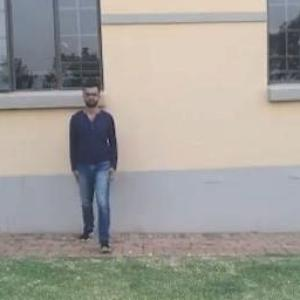follow: (67, 77, 117, 248)
